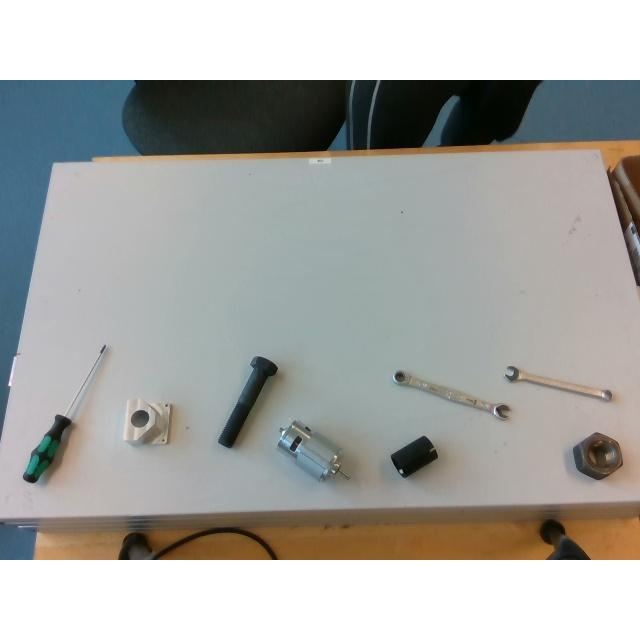M20_100: (218, 357, 278, 448)
M30: (574, 433, 622, 479)
Motor2: (278, 420, 350, 480)
Screwdriver: (22, 344, 106, 484)
Wrench: (392, 370, 510, 420)
